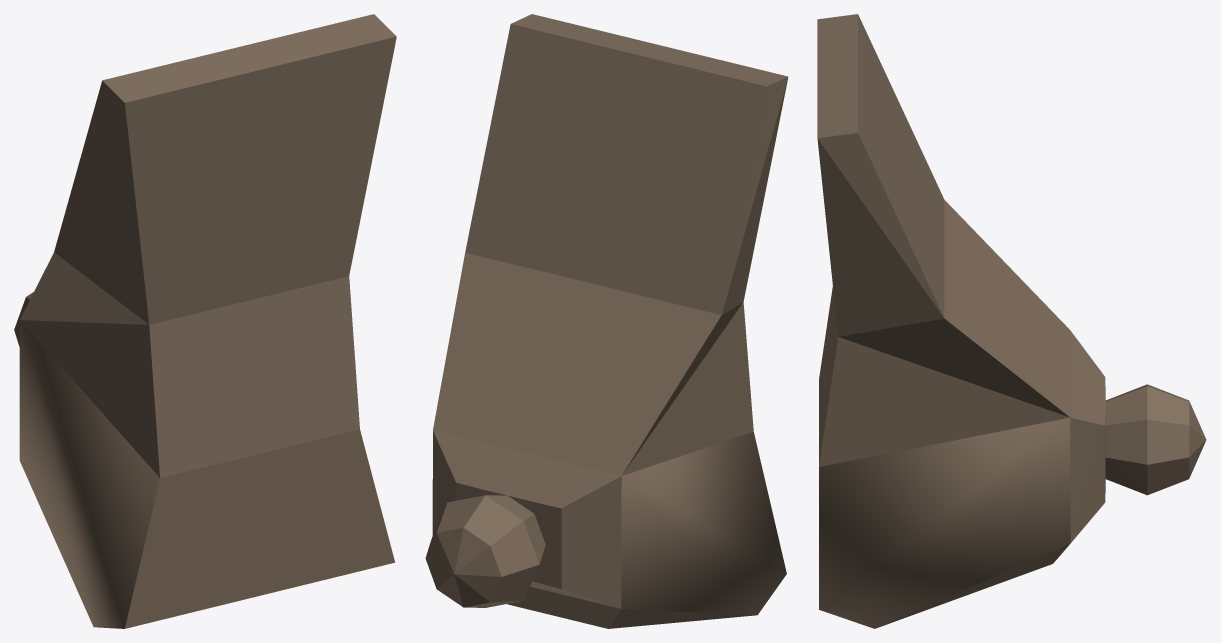
Rendered from foot_r.dae.
3 views of the same model, side by side, from view 1: azimuth 30°, elevation 25°; view 2: azimuth 150°, elevation 25°; view 3: azimuth 270°, elevation 25° (orthographic). The views are drawn at different scales.
Visible parts, largest first — view 1: Mesh_006; view 2: Mesh_006; view 3: Mesh_006.
Part boxes in pixels (x1,y1,x2,y2): Mesh_006: (14,14,396,628); Mesh_006: (425,14,788,628); Mesh_006: (817,14,1206,628).
Size of the model in its own units: 1.71 by 2.37 by 3.33.
